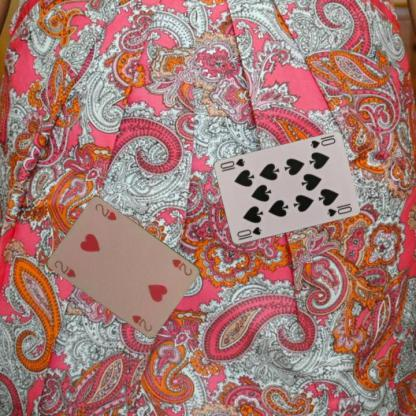10s: (235, 224, 262, 242), (308, 135, 336, 150)
2h: (51, 258, 78, 279), (168, 256, 194, 277)
